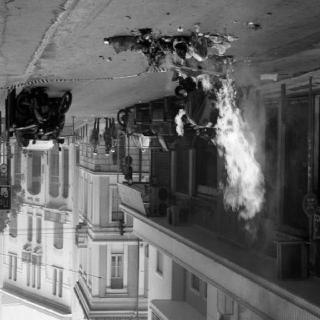Fire: (213, 63, 266, 239), (178, 69, 212, 97), (172, 105, 188, 139)
